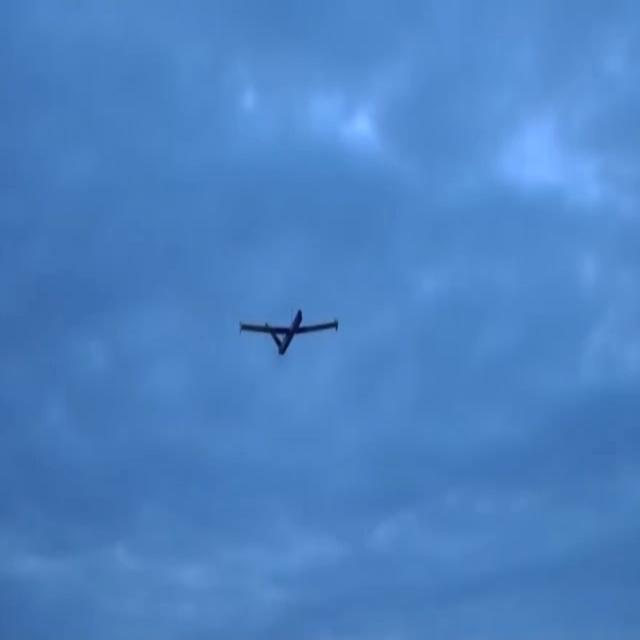iha: (272, 323, 305, 325)
